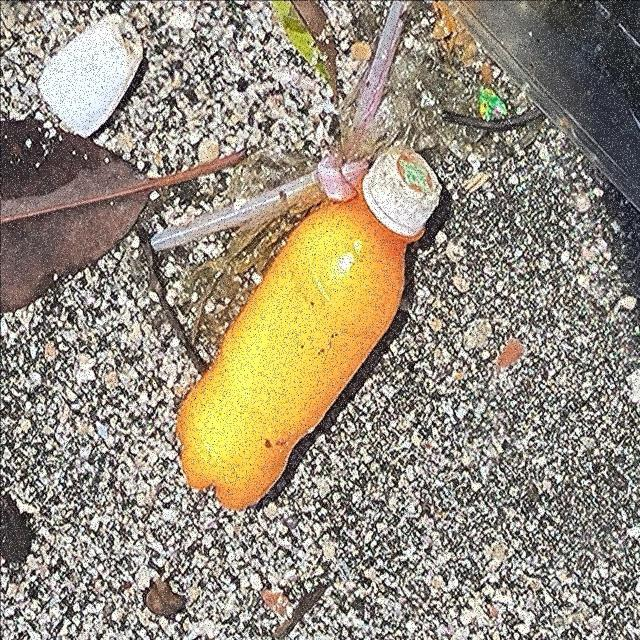plastic_waste: (173, 146, 447, 514)
